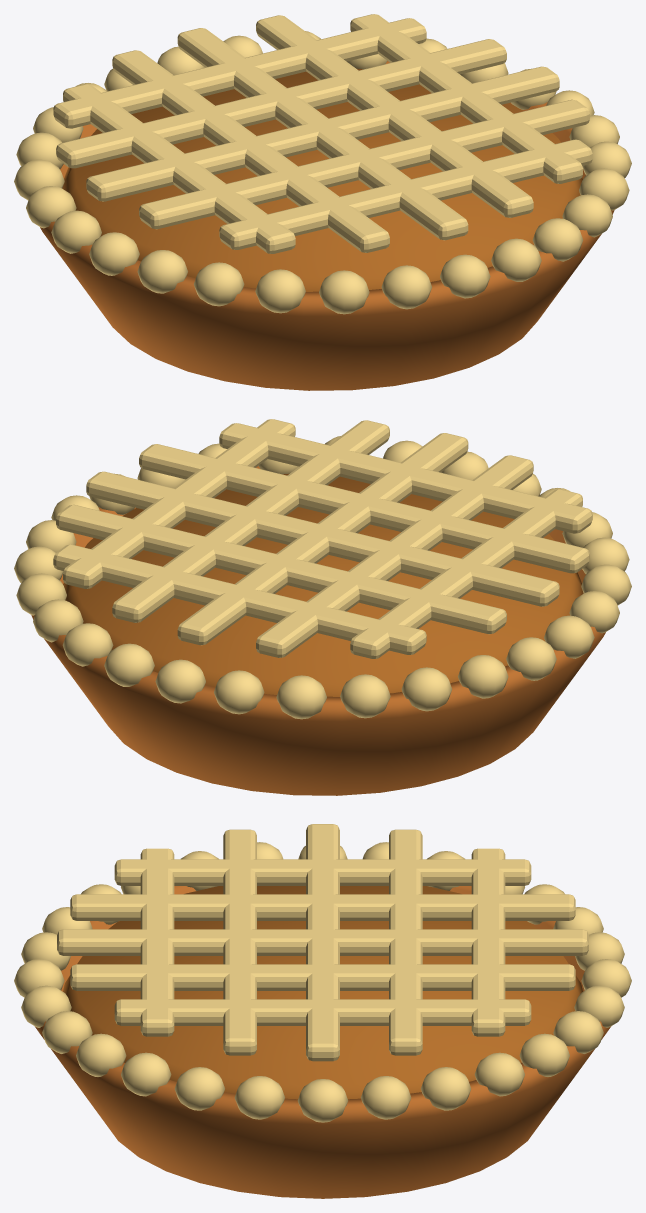
File: apple-pie.glb
3 views of the same model, one above another, from view 1: azimuth 30°, elevation 25°; view 2: azimuth 150°, elevation 25°; view 3: azimuth 270°, elevation 25° (orthographic).
Visible parts, largest first — view 1: edible_pie_crust.001, edible_filling.001, edible_lattice.005, edible_lattice.003, edible_lattice.007, edible_lattice.004, edible_lattice.002, edible_lattice.006, edible_lattice.001, edible_lattice.009, edible_lattice, edible_lattice.008 (+20 smaller); view 2: edible_pie_crust.001, edible_filling.001, edible_lattice.005, edible_lattice.007, edible_lattice.003, edible_lattice.004, edible_lattice.006, edible_lattice.002, edible_lattice.001, edible_lattice.009, edible_lattice, edible_lattice.008 (+20 smaller); view 3: edible_pie_crust.001, edible_filling.001, edible_lattice.004, edible_lattice.006, edible_lattice.002, edible_lattice, edible_lattice.008, edible_lattice.005, edible_lattice.003, edible_lattice.007, edible_lattice.001, edible_lattice.009 (+19 smaller).
Boxes of the visible parts, box(x1,y1,x2,y2) form: edible_pie_crust.001: box(40, 61, 614, 390); edible_filling.001: box(62, 68, 582, 291); edible_lattice.005: box(86, 66, 559, 201); edible_lattice.003: box(139, 99, 589, 229); edible_lattice.007: box(56, 39, 506, 168); edible_lattice.004: box(177, 28, 468, 240); edible_lattice.002: box(112, 50, 389, 252); edible_lattice.006: box(256, 15, 533, 217); edible_lattice.001: box(219, 139, 592, 249); edible_lattice.009: box(53, 18, 426, 128); edible_lattice: box(63, 84, 295, 253); edible_lattice.008: box(350, 14, 582, 183); edible_pie_crust.001: box(31, 466, 605, 795); edible_filling.001: box(63, 473, 583, 696); edible_lattice.005: box(86, 471, 559, 606); edible_lattice.007: box(56, 504, 506, 634); edible_lattice.003: box(139, 444, 589, 573); edible_lattice.004: box(177, 433, 468, 645); edible_lattice.006: box(112, 420, 389, 622); edible_lattice.002: box(256, 455, 533, 657); edible_lattice.001: box(219, 423, 592, 533); edible_lattice.009: box(53, 544, 426, 654); edible_lattice: box(350, 489, 582, 658); edible_lattice.008: box(63, 419, 295, 588); edible_pie_crust.001: box(35, 886, 610, 1198); edible_filling.001: box(63, 886, 582, 1099); edible_lattice.004: box(57, 929, 588, 955); edible_lattice.006: box(70, 964, 575, 990); edible_lattice.002: box(70, 894, 575, 920); edible_lattice: box(114, 859, 531, 885); edible_lattice.008: box(114, 999, 531, 1025); edible_lattice.005: box(306, 824, 339, 1061); edible_lattice.003: box(223, 829, 256, 1055); edible_lattice.007: box(389, 829, 422, 1055); edible_lattice.001: box(140, 848, 174, 1036); edible_lattice.009: box(471, 848, 505, 1036).
Bounding box in the file's own units: 0.2928 × 0.0895 × 0.2928.
